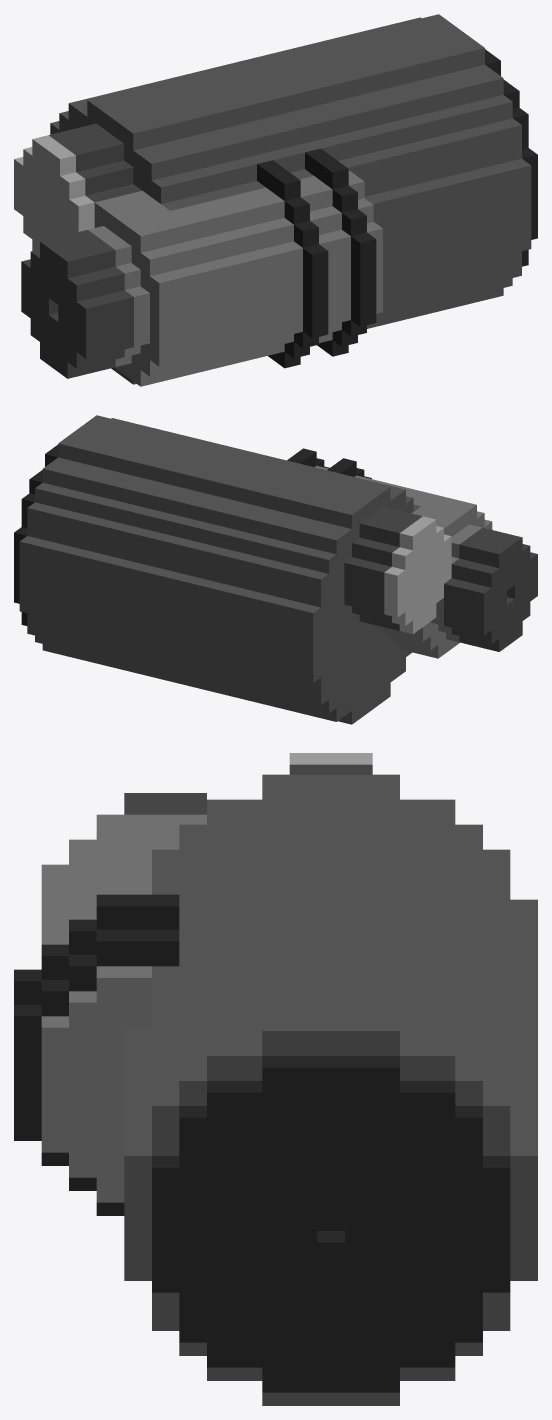
Rendered from GunBody.obj.
3 views of the same model, one above another, from view 1: azimuth 30°, elevation 25°; view 2: azimuth 150°, elevation 25°; view 3: azimuth 270°, elevation 25° (orthographic). The views are drawn at different scales.
Bounding box in the file's own units: 30 × 15 × 19.
1 material, 1 textured.
